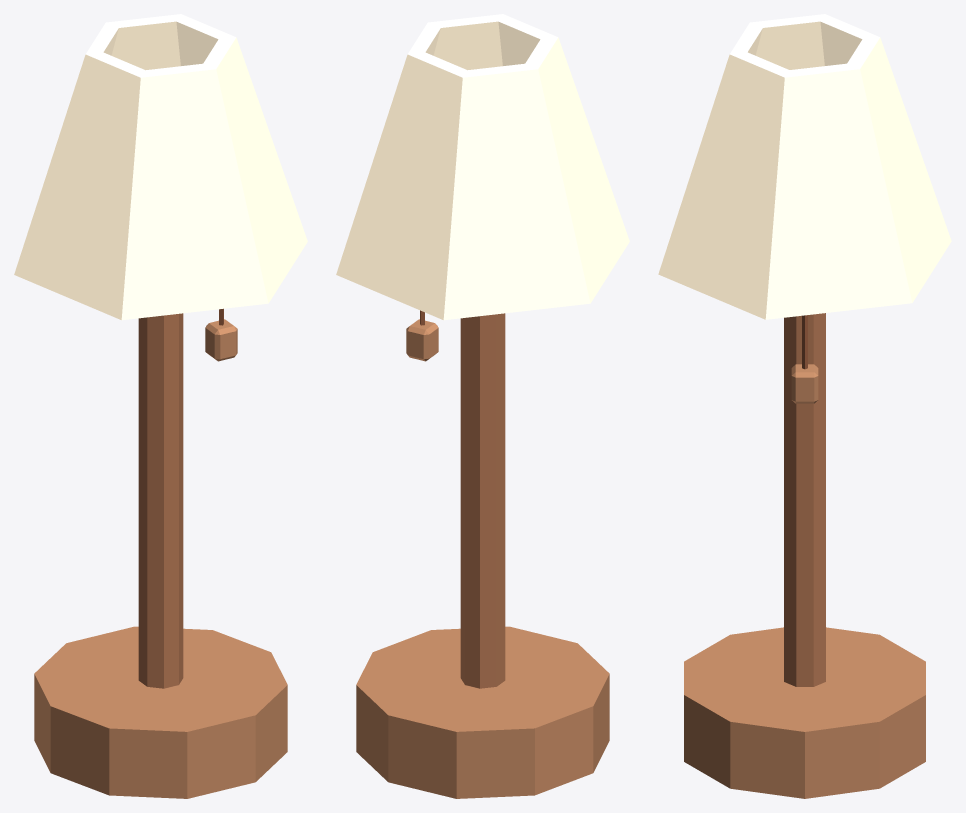
The model's file is _Floor_Lamp.fbx.
3 renders of one model, left to right at view 1: azimuth 30°, elevation 25°; view 2: azimuth 150°, elevation 25°; view 3: azimuth 270°, elevation 25°, orthographic.
Parts seen in each view (by area): view 1: Open hollow shade.001, 11_Floor_Lamp / Octagonal foot, 11_Floor_Lamp / Stem, 11_Floor_Lamp / Pull switch; view 2: Open hollow shade.001, 11_Floor_Lamp / Octagonal foot, 11_Floor_Lamp / Stem, 11_Floor_Lamp / Pull switch; view 3: Open hollow shade.001, 11_Floor_Lamp / Octagonal foot, 11_Floor_Lamp / Stem, 11_Floor_Lamp / Pull switch.
Part boxes in pixels (x1=…): Open hollow shade.001: x1=14, y1=14, x2=307, y2=320; 11_Floor_Lamp / Octagonal foot: x1=34, y1=626, x2=287, y2=798; 11_Floor_Lamp / Stem: x1=138, y1=313, x2=183, y2=688; 11_Floor_Lamp / Pull switch: x1=205, y1=319, x2=237, y2=361; Open hollow shade.001: x1=336, y1=14, x2=629, y2=320; 11_Floor_Lamp / Octagonal foot: x1=356, y1=626, x2=609, y2=798; 11_Floor_Lamp / Stem: x1=460, y1=313, x2=505, y2=688; 11_Floor_Lamp / Pull switch: x1=406, y1=319, x2=438, y2=361; Open hollow shade.001: x1=658, y1=14, x2=951, y2=319; 11_Floor_Lamp / Octagonal foot: x1=684, y1=627, x2=925, y2=798; 11_Floor_Lamp / Stem: x1=784, y1=313, x2=825, y2=686; 11_Floor_Lamp / Pull switch: x1=791, y1=364, x2=818, y2=403.
Bounding box in the file's own units: 71.48 × 188 × 71.48.
